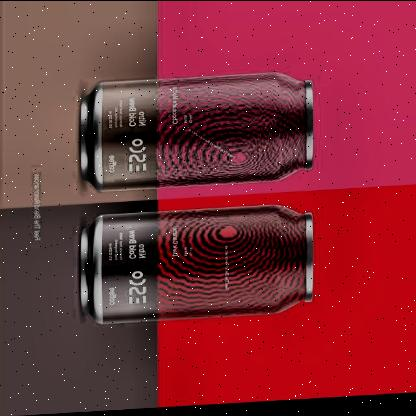Can: (80, 199, 324, 329), (75, 65, 316, 195)
